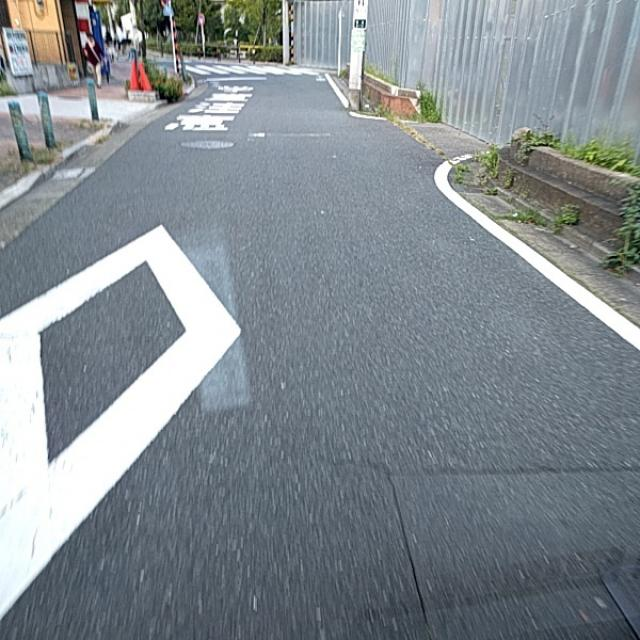pothole: (304, 365, 416, 515)
